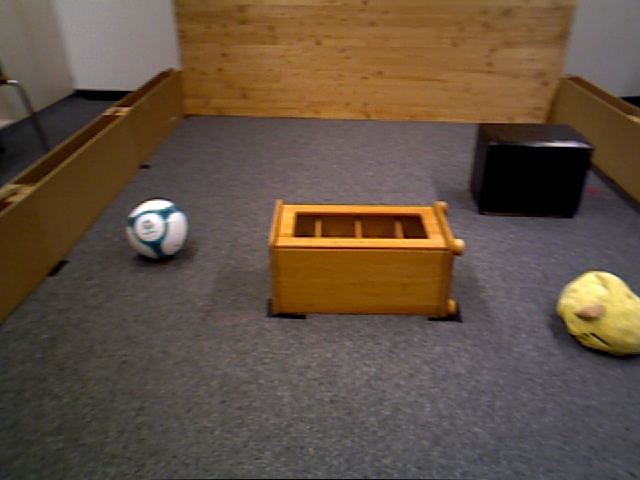grasp: (557, 268, 640, 356)
kick: (127, 197, 189, 261)
push: (471, 122, 595, 220)
